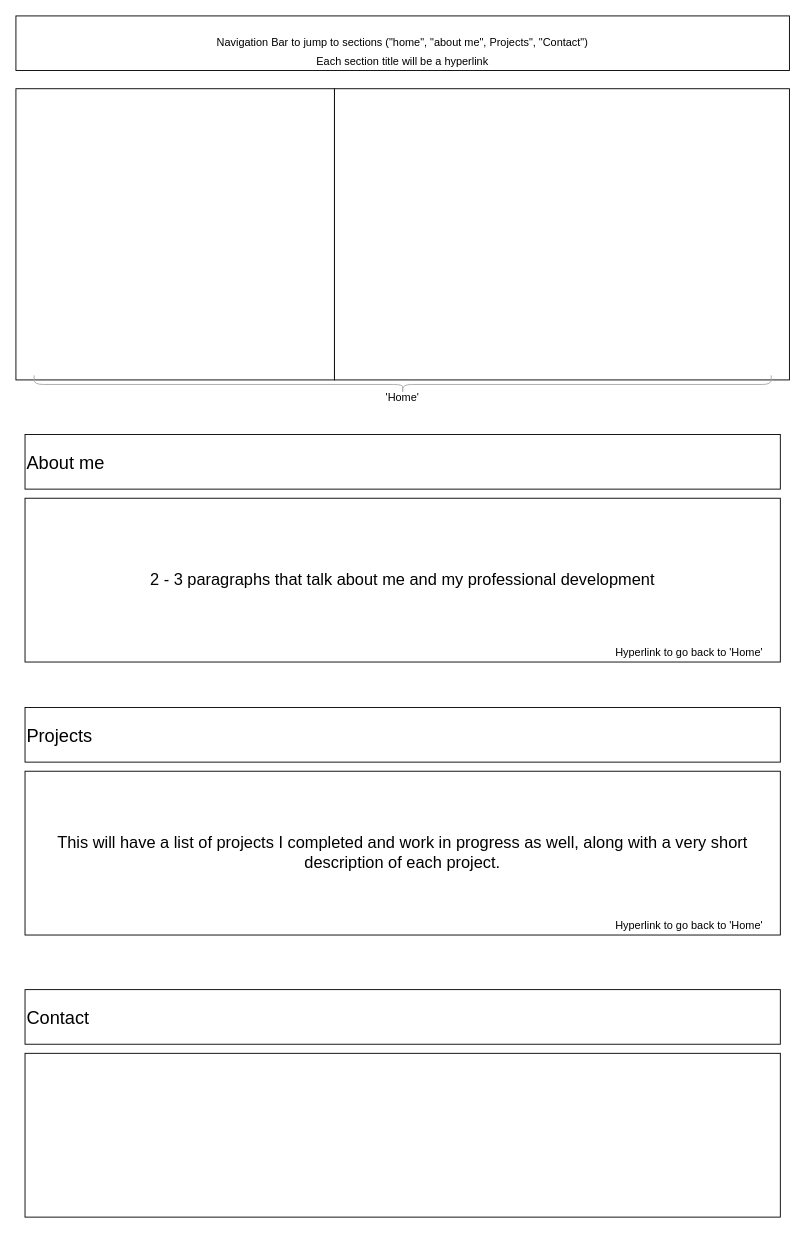
This 805x1233 diagram has some shape labels left out. Each missing label, with the centre of its shape:
1 - 2 sentences about me to catch the visitors attention: the point at 561,234
Image of me: the point at 174,234
This will have my email along with a hyperlink to my LinkedIn profile: the point at 402,1134
